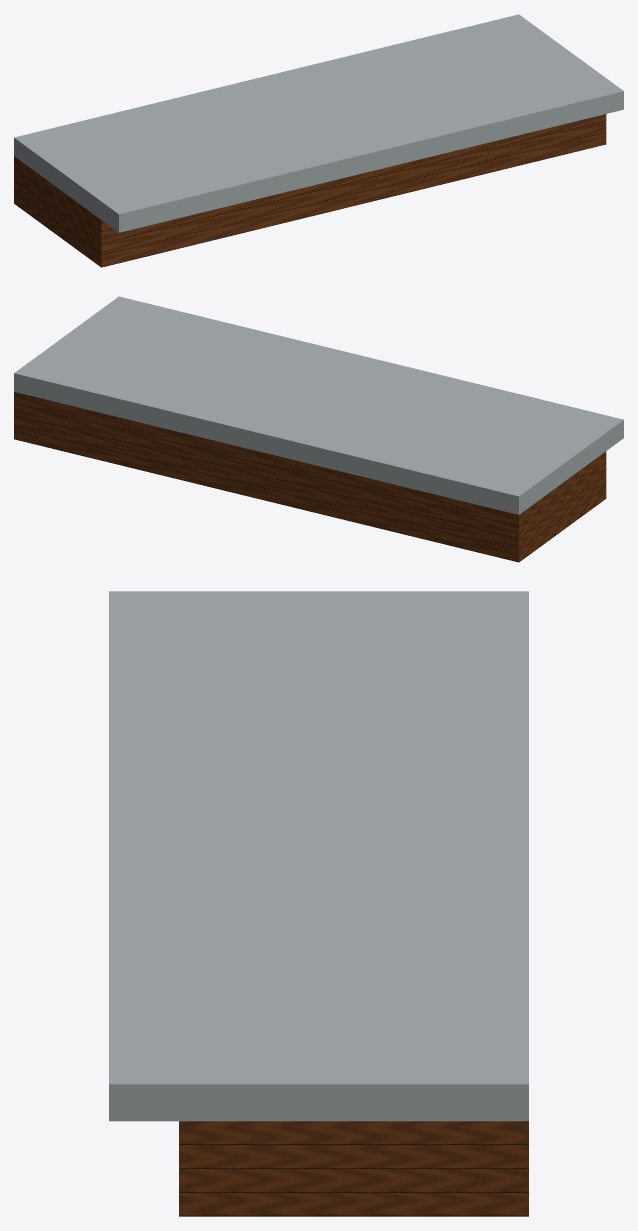
File: modular-survival-base-builder-window-sill-5924bf2d__24260.glb
3 renders of one model, top to bottom at view 1: azimuth 30°, elevation 25°; view 2: azimuth 150°, elevation 25°; view 3: azimuth 270°, elevation 25°, orthographic. The views are drawn at different scales.
Visible parts, largest first — view 1: window-sill; view 2: window-sill; view 3: window-sill.
Boxes of the visible parts, bbox=[...] form: window-sill: bbox=[14, 14, 623, 267]; window-sill: bbox=[14, 296, 623, 562]; window-sill: bbox=[109, 591, 528, 1216].
Size of the model in its own units: 1 by 0.125 by 0.36.
Materials: 2 (1 with a texture image).
